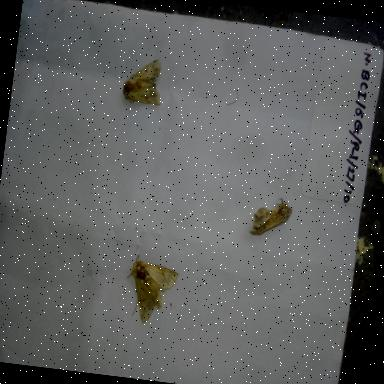abw: (117, 249, 184, 331), (118, 51, 168, 112), (242, 190, 296, 244)
